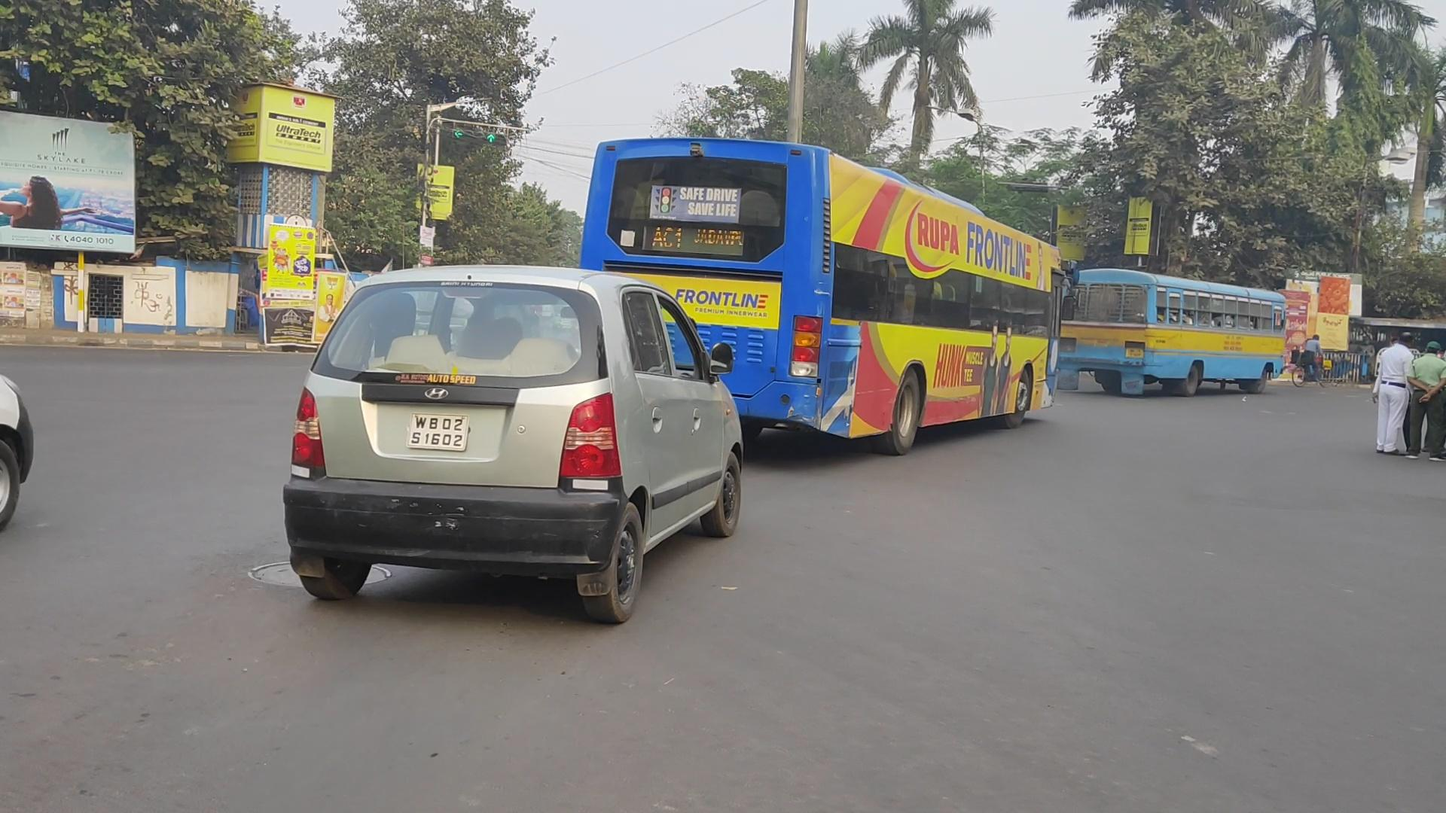Bus: (579, 136, 1078, 458), (1057, 267, 1288, 397)
bike: (1292, 334, 1335, 388)
car: (283, 263, 745, 626)
